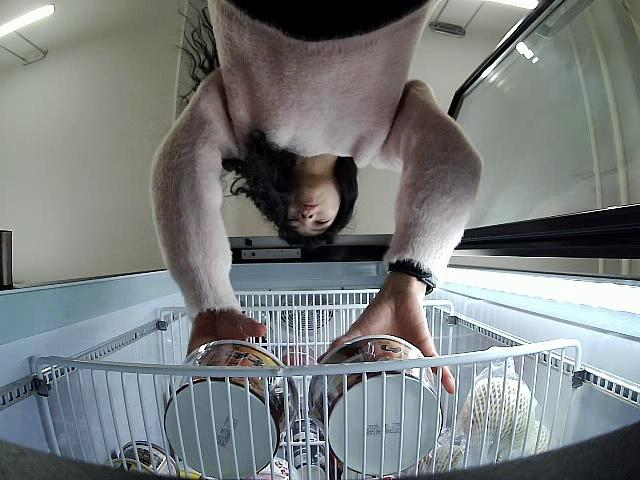00_hand: (316, 298, 458, 399), (184, 309, 269, 355)
05_nuguri_L: (308, 336, 444, 476), (163, 343, 297, 480)
